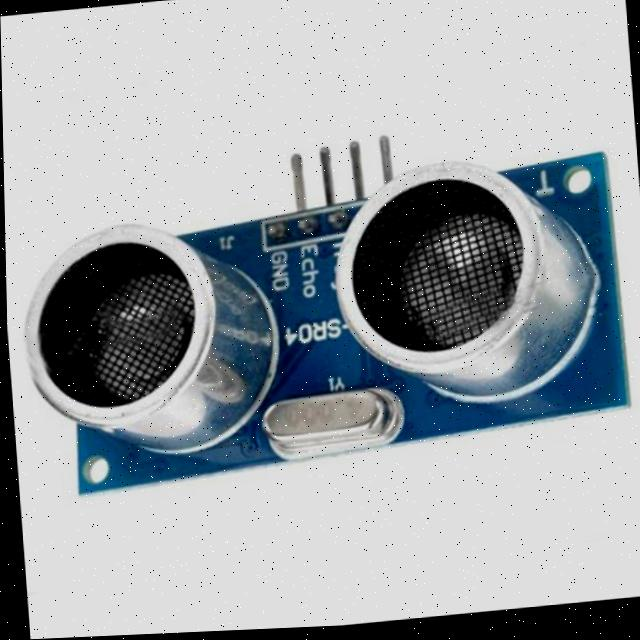Ultrasonic Sensor: (5, 82, 640, 527)
